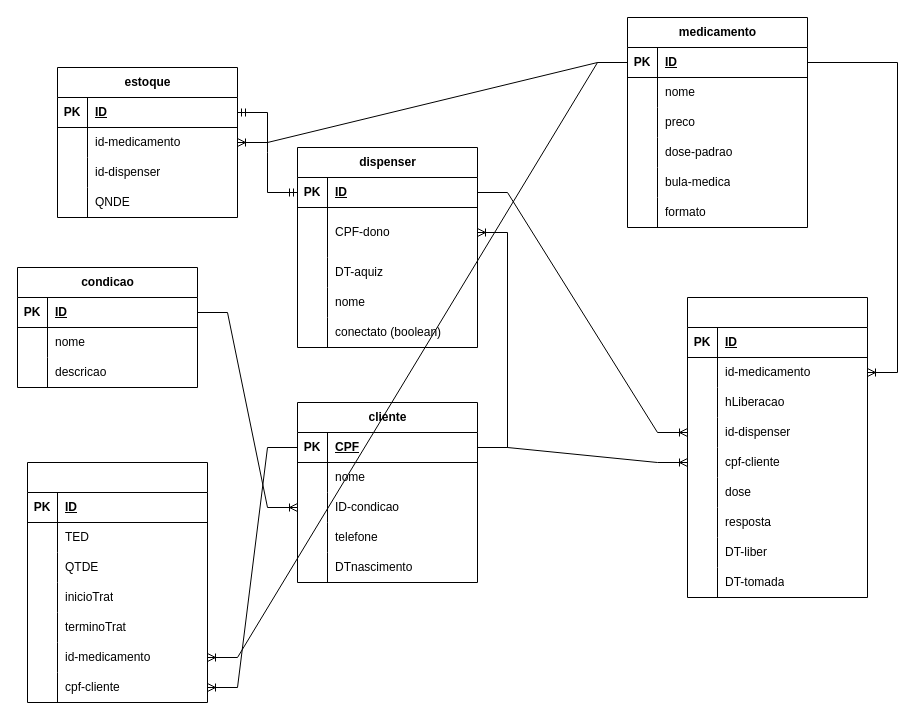
Image size: 923x720. Some labels were removed from this diagram. The shapes that lost their labels are listed below. From the top down, each one's box as (x1, y1, x2, y2) in pixels, then its label:
(686, 296, 868, 598): agenda
(26, 462, 208, 702): receita
